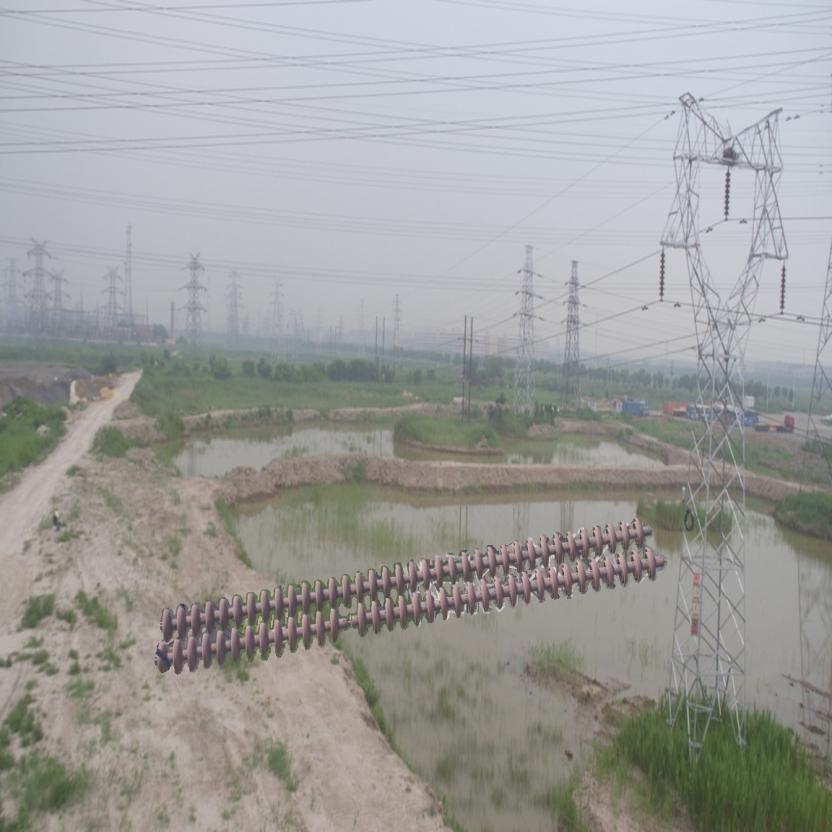defect: (326, 598, 372, 644)
